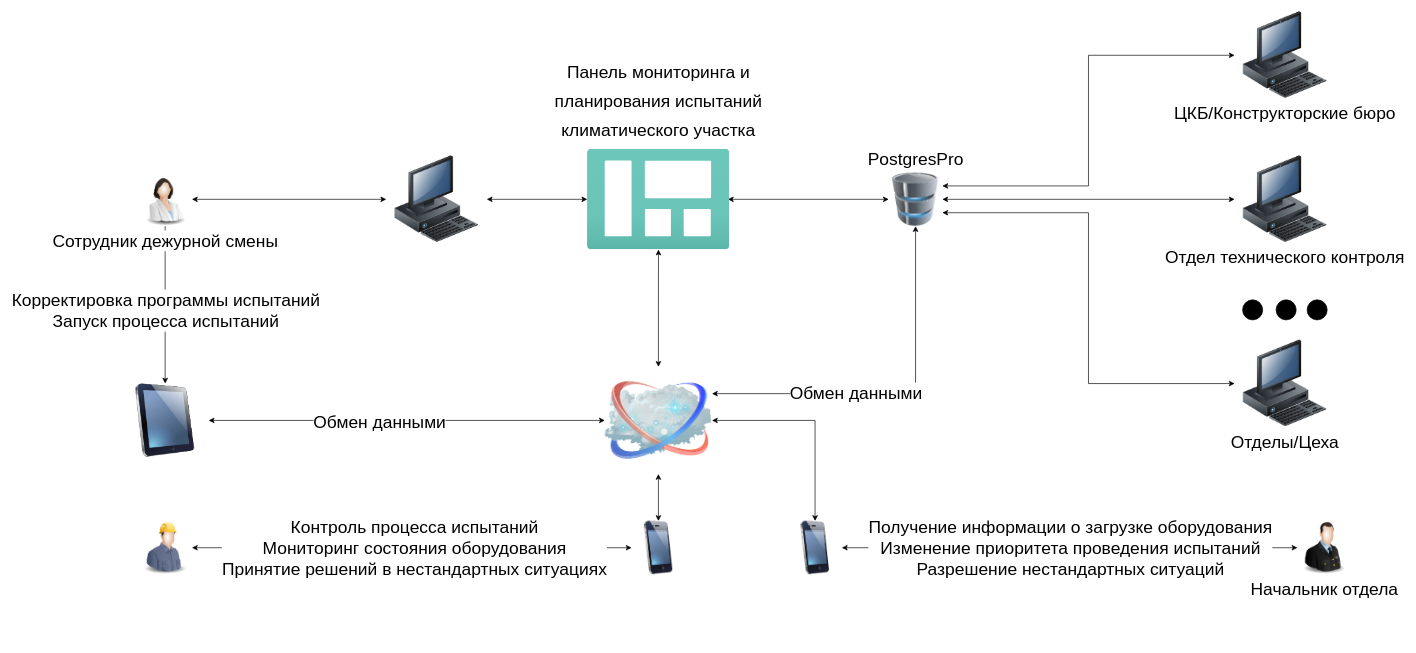
Some shapes in this 1416 by 653 pixel diagram are drawn without their labels. The shapes that lost their labels are listed below. From the top down, each one's centre as x and y in pixels, then its label:
the point at 436,199: Компьютер рабочей смены
the point at 165,547: Наладчик технологического оборудования
